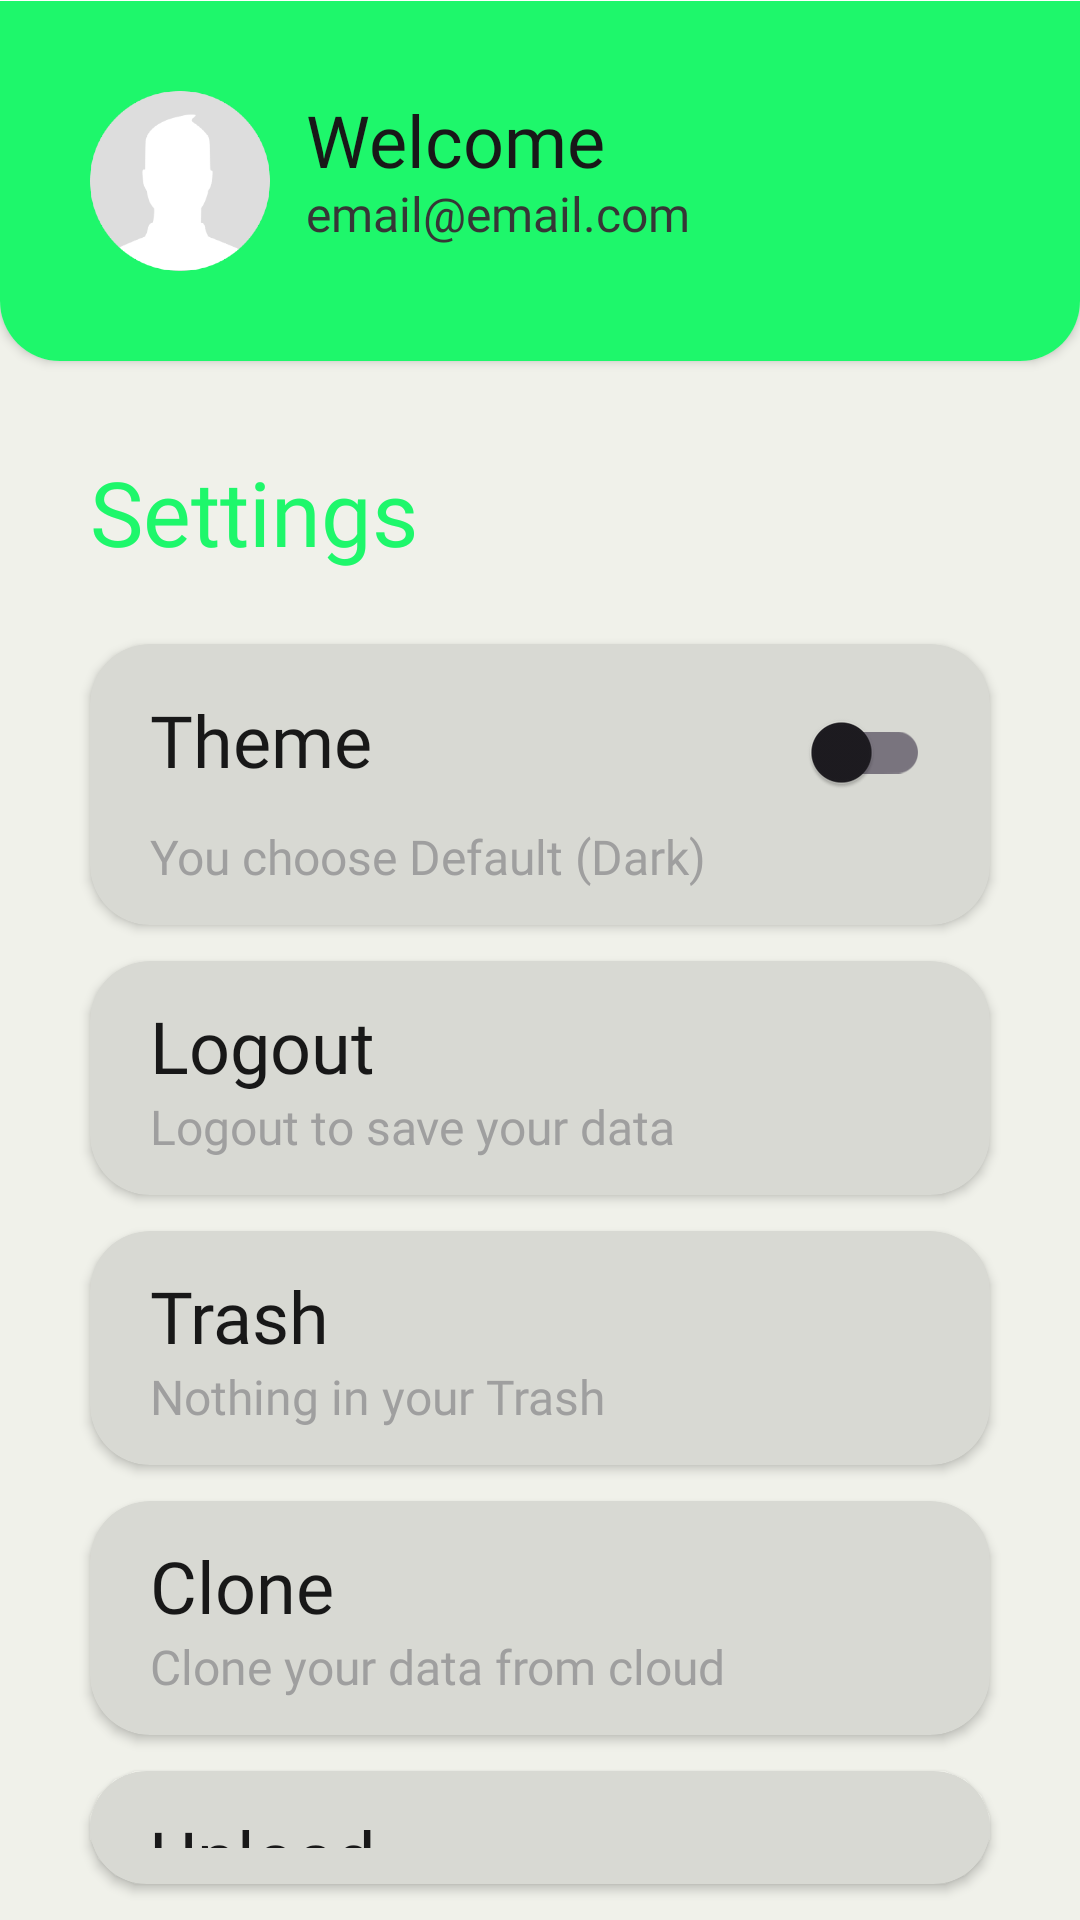

Screen size 1080 × 1920. Icon name, then its box in pixels as (left=x1, top=y1, right=x2, bottom=y2):
profilepic: (left=90, top=91, right=270, bottom=271)
